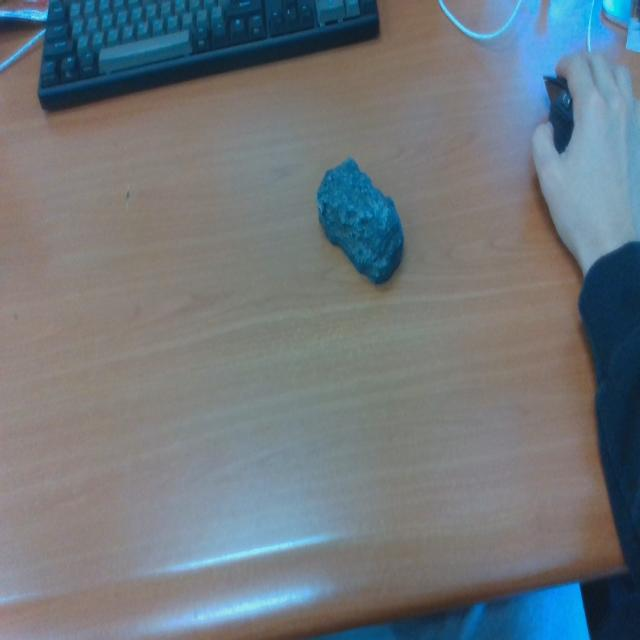stone: (316, 156, 404, 288)
